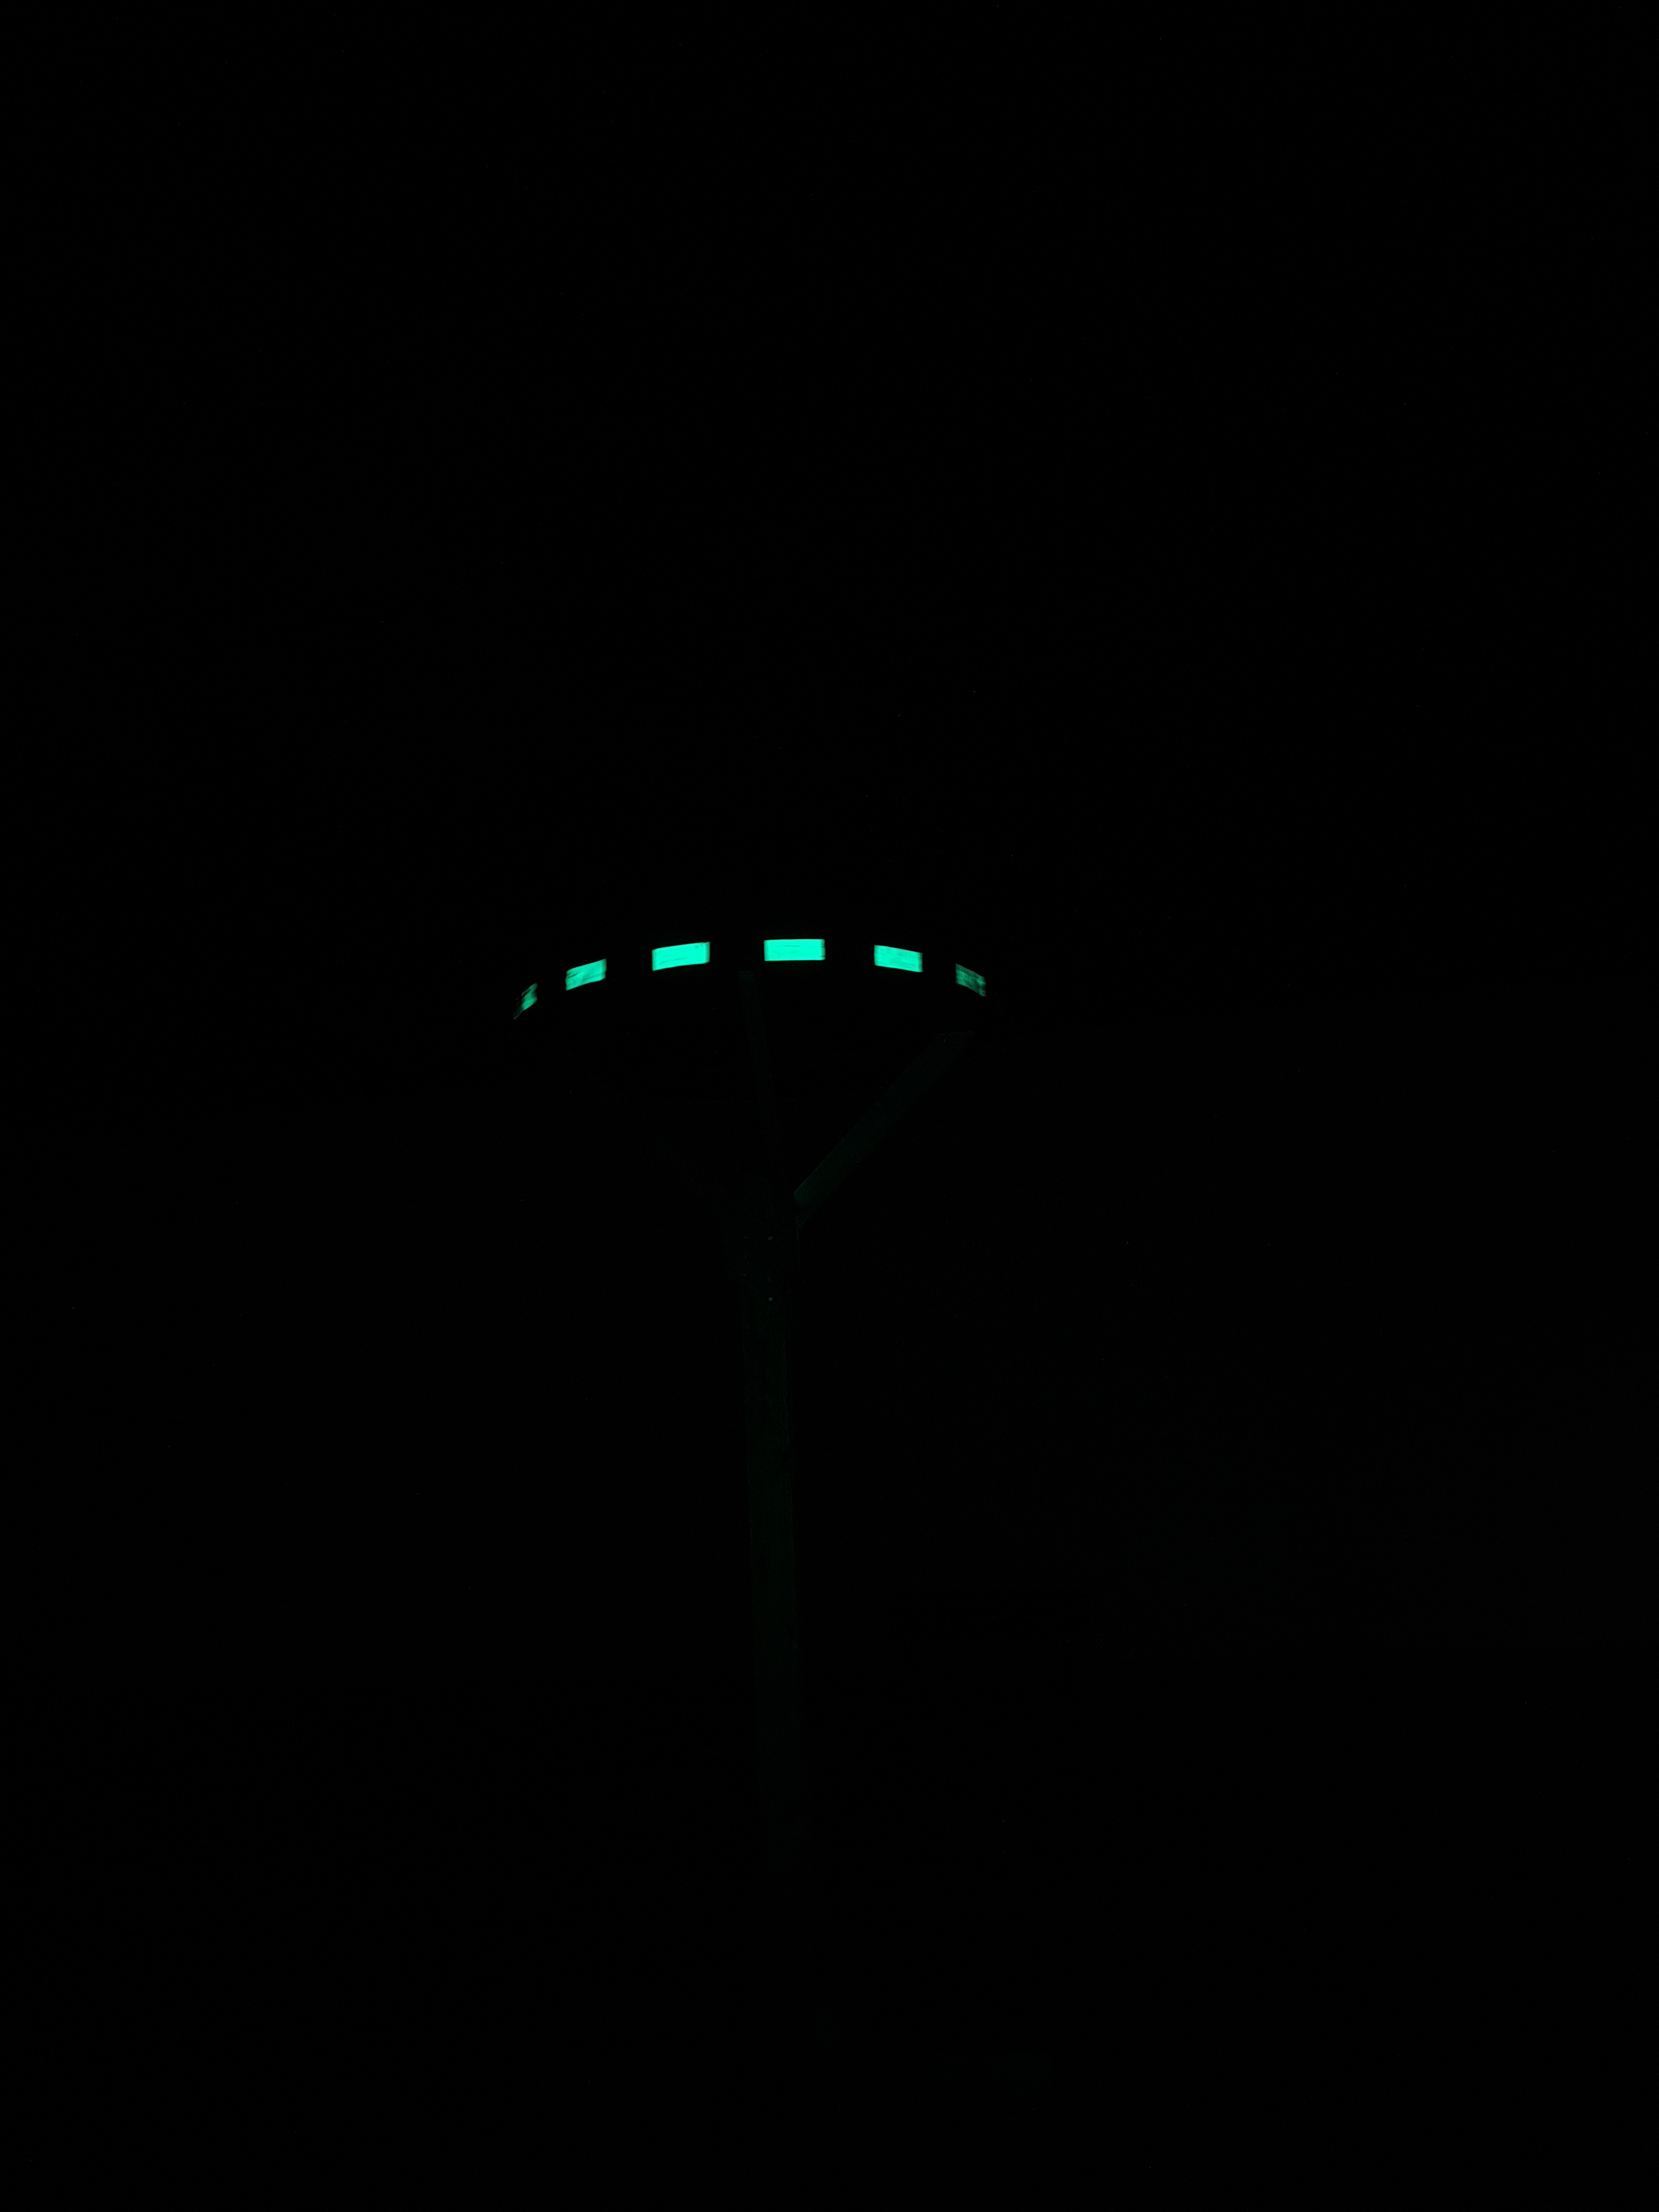hoop: (511, 928, 1004, 1038)
